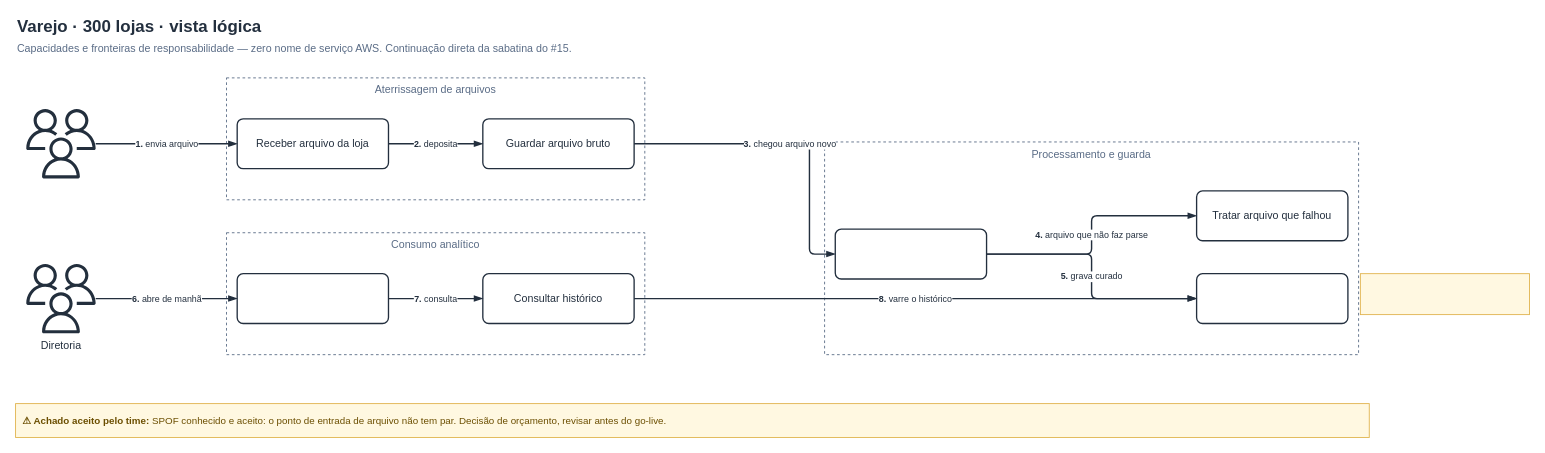
Image size: 1545x453. Some labels were removed from this diagram. Here are the shapes that lost their labels. From the top down, the centre of each, then its label:
(x=60, y=143): Lojas (300)
(x=910, y=253): Processar na chegada
(x=312, y=298): Painel da diretoria
(x=1272, y=298): Reter objeto curado
(x=1444, y=294): Histórico de 5 anos por exigência de auditoria, com regra de ciclo de vida.
